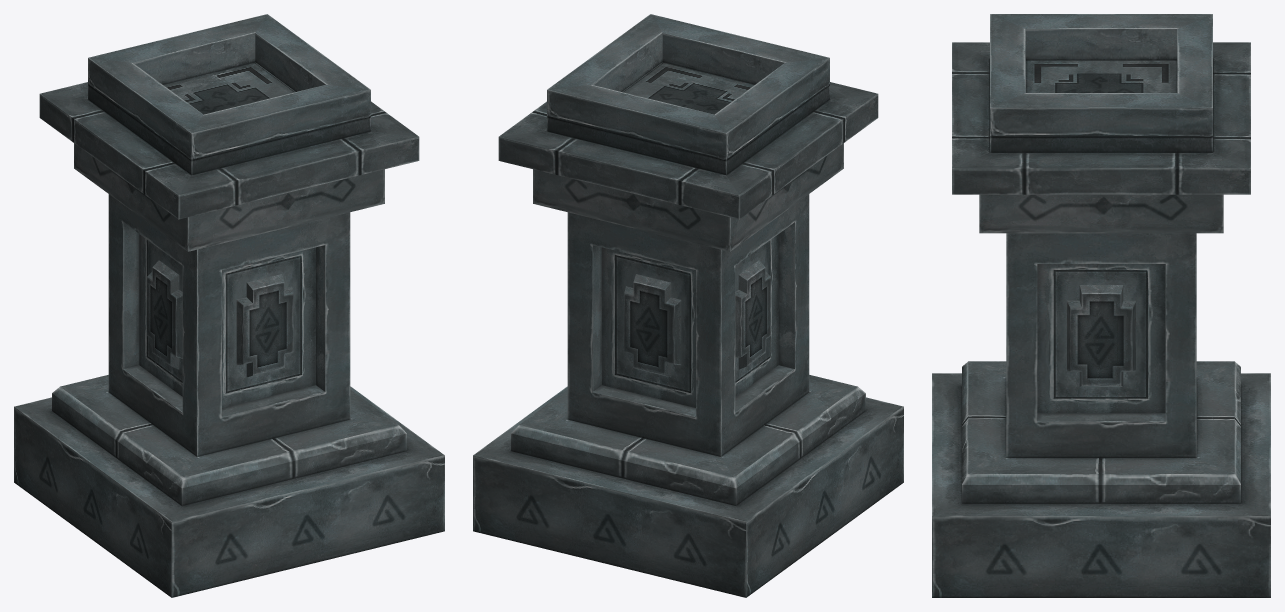
File: pedestal.fbx
The picture shows the model from 3 angles, left to right: view 1: azimuth 30°, elevation 25°; view 2: azimuth 150°, elevation 25°; view 3: azimuth 270°, elevation 25°; orthographic projection. The views are drawn at different scales.
Visible parts, largest first — view 1: polySurface447; view 2: polySurface447; view 3: polySurface447.
Boxes of the visible parts, bbox=[...] form: polySurface447: bbox=[14, 14, 444, 597]; polySurface447: bbox=[473, 14, 903, 597]; polySurface447: bbox=[932, 14, 1270, 597].
Size of the model in its own units: 0.7824 by 1.19 by 0.7824.
